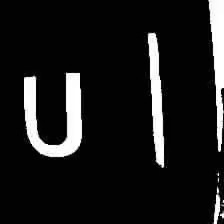LTR_U: (12, 65, 96, 164)
